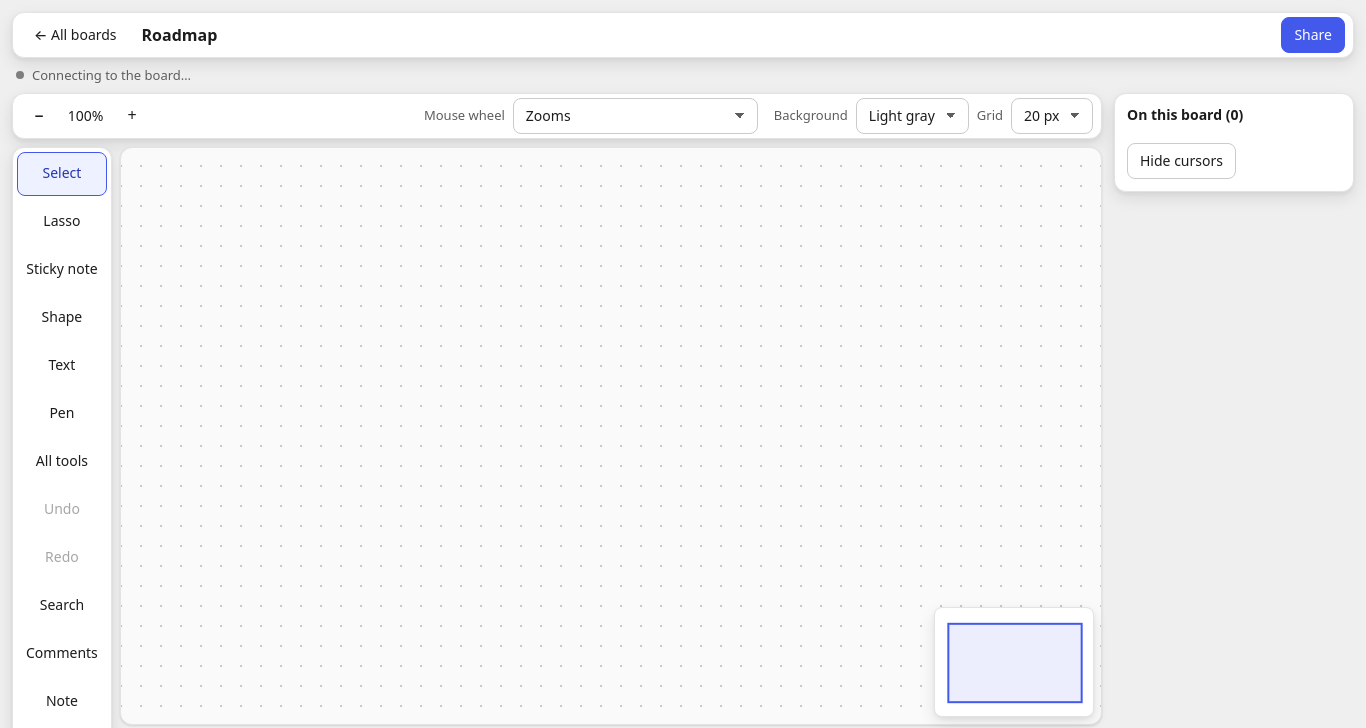
Scenario: диалог Share на /boards/{id} (SHR-01, SHR-06) › закрывается кнопкой Close и клавишей Escape
Click the button "Share".
click(1313, 35)  # box x1=1281 y1=17 x2=1345 y2=53
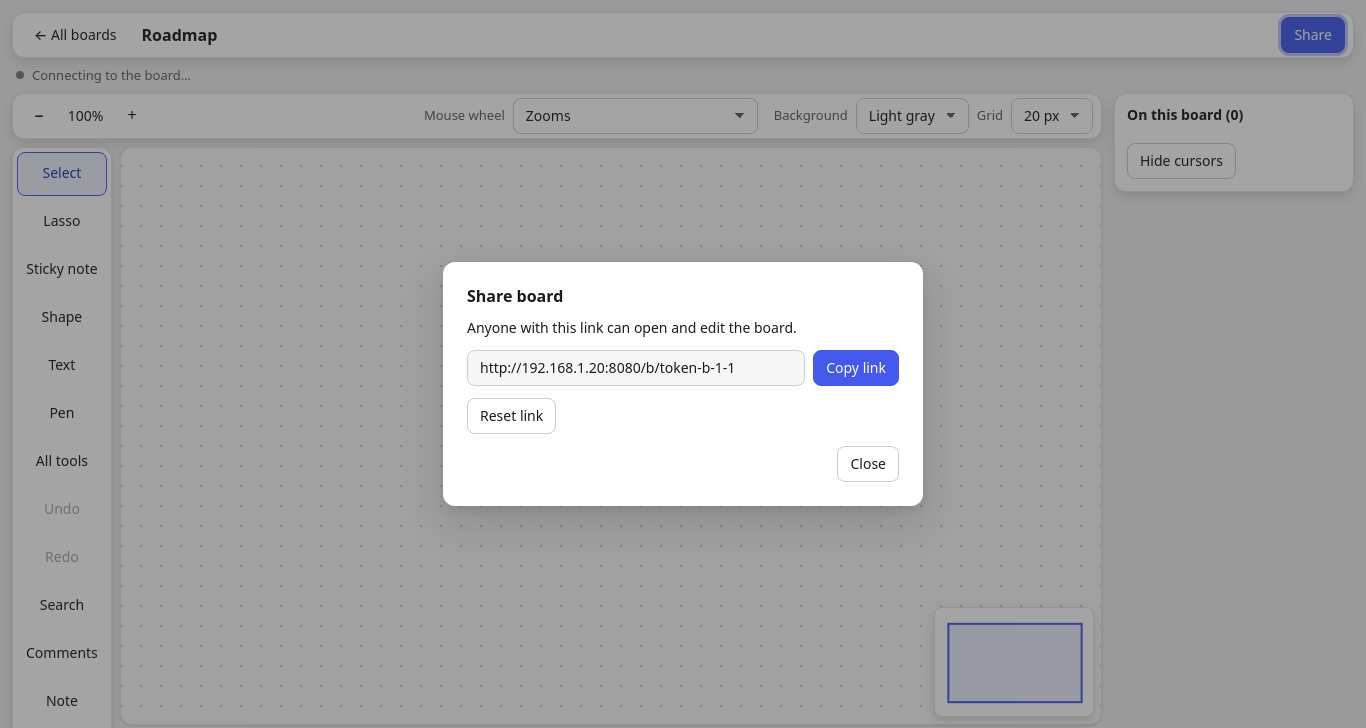
Click the button "Close".
click(868, 464)  # box x1=838 y1=446 x2=899 y2=482
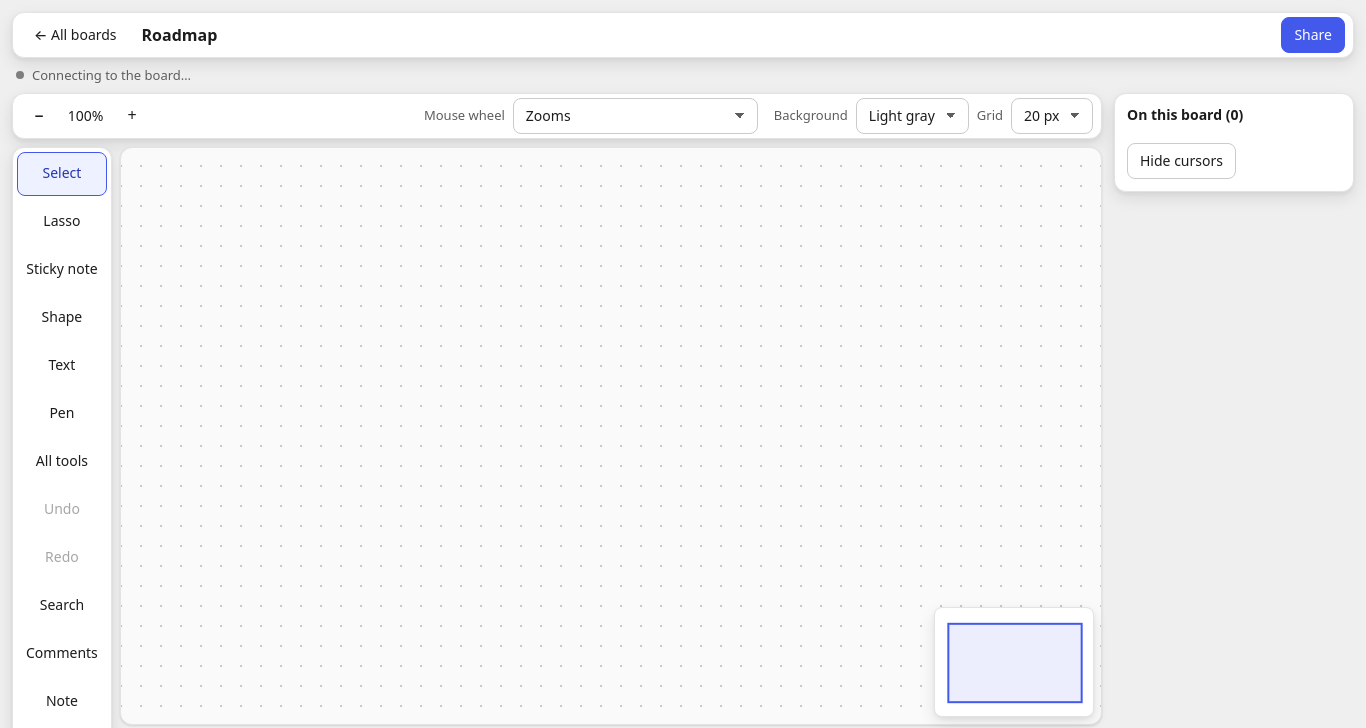
Now the dialog is gone
Click the button "Share".
click(1313, 35)  # box x1=1281 y1=17 x2=1345 y2=53
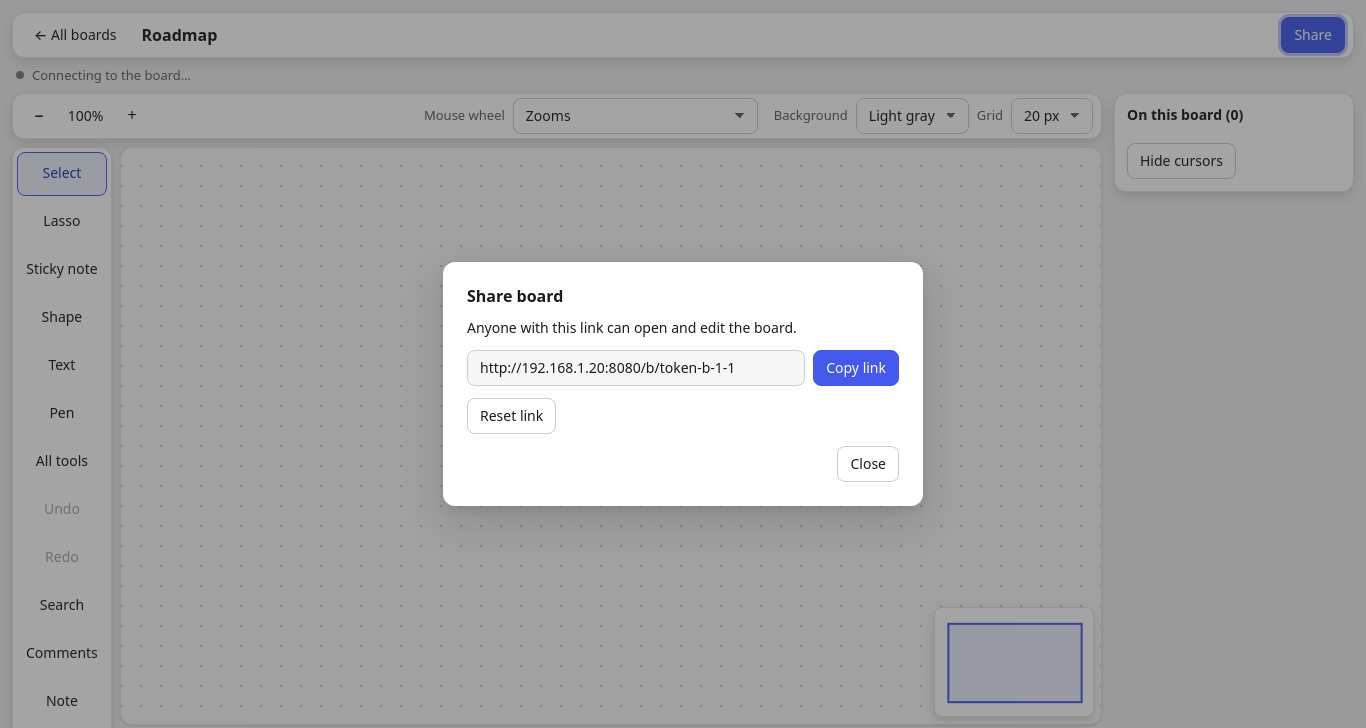
Press Escape
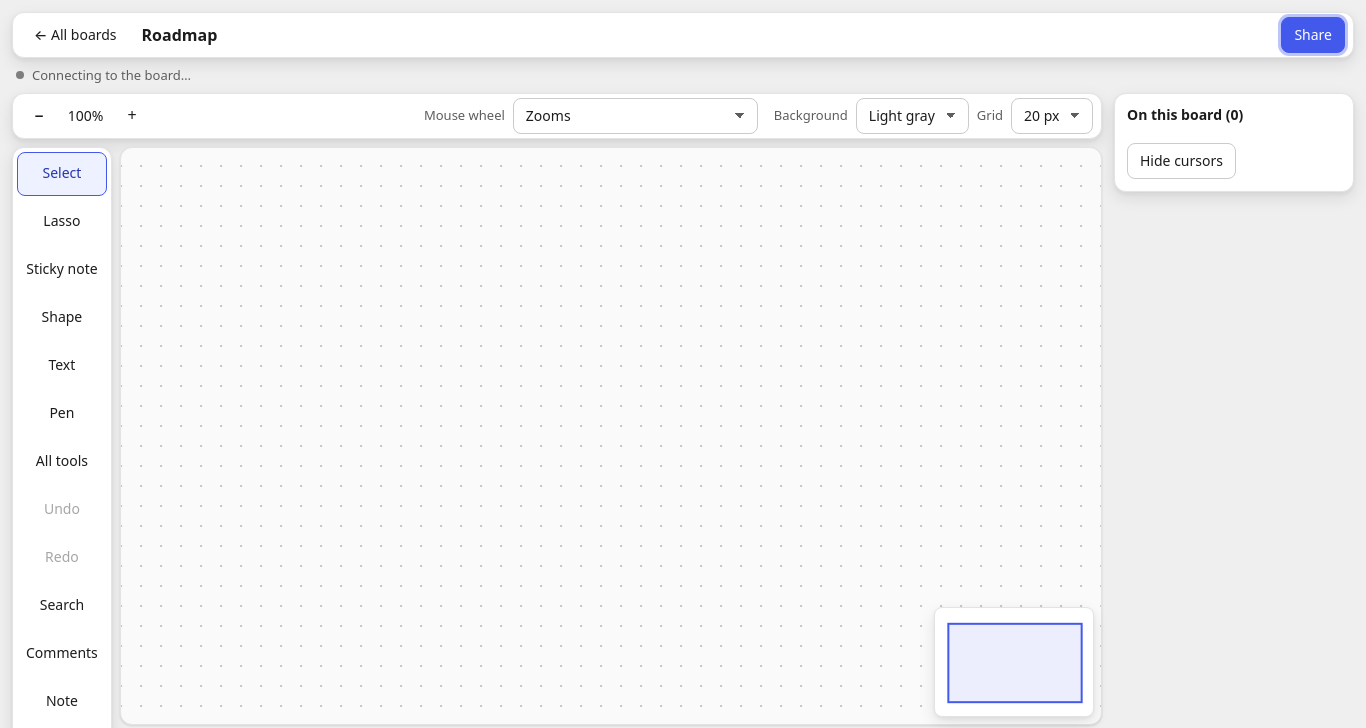
Now the dialog is gone
